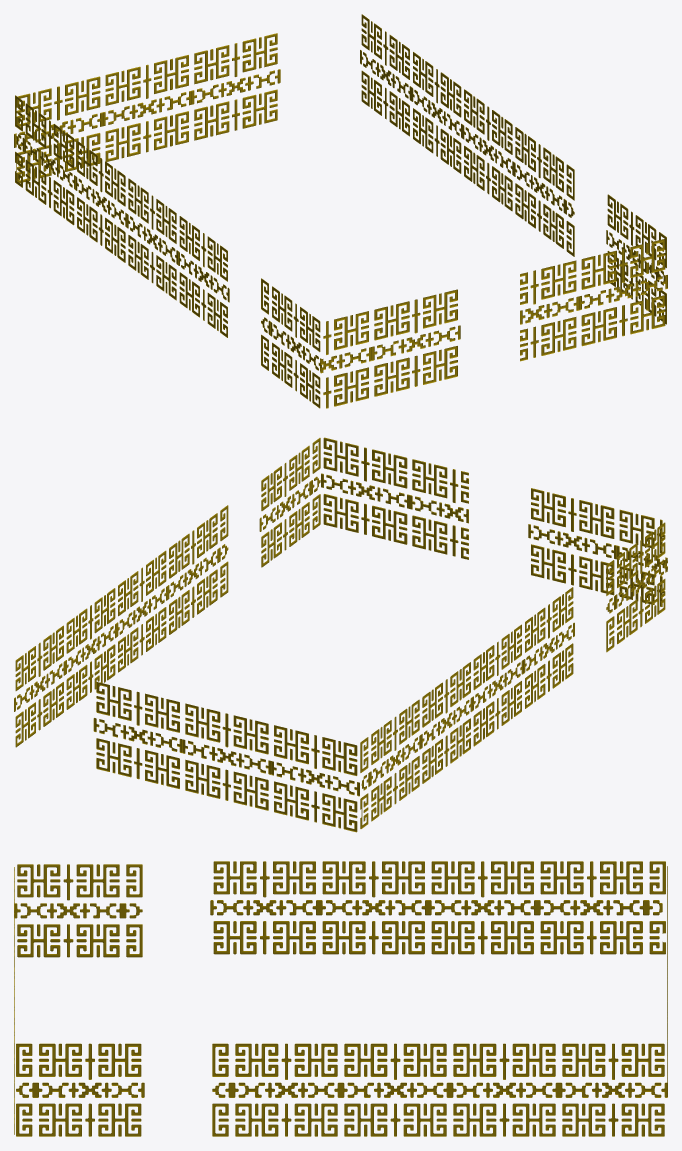
Rendered from WallDeco.fbx.
The picture shows the model from 3 angles, top to bottom: view 1: azimuth 30°, elevation 25°; view 2: azimuth 150°, elevation 25°; view 3: azimuth 270°, elevation 25°; orthographic projection. The views are drawn at different scales.
Parts seen in each view (by area): view 1: WallDeco; view 2: WallDeco; view 3: WallDeco.
Part boxes in pixels (<box>): WallDeco: <box>14,14,667,408</box>; WallDeco: <box>14,437,667,832</box>; WallDeco: <box>14,861,667,1136</box>.
Size of the model in its own units: 3911 by 970 by 6000.
1 material, 1 textured.
